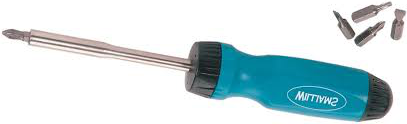Screwdriver: (3, 12, 407, 122)
